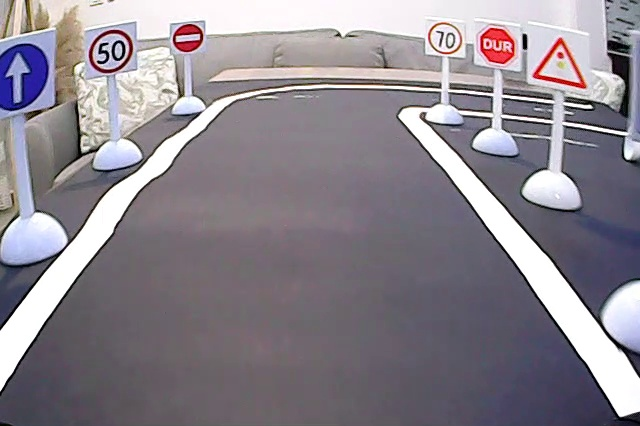do not enter: (170, 23, 207, 52)
red light: (530, 29, 591, 93)
speed limit 50: (87, 25, 136, 77)
speed limit 70: (427, 20, 463, 55)
stop sign: (477, 22, 518, 67)
